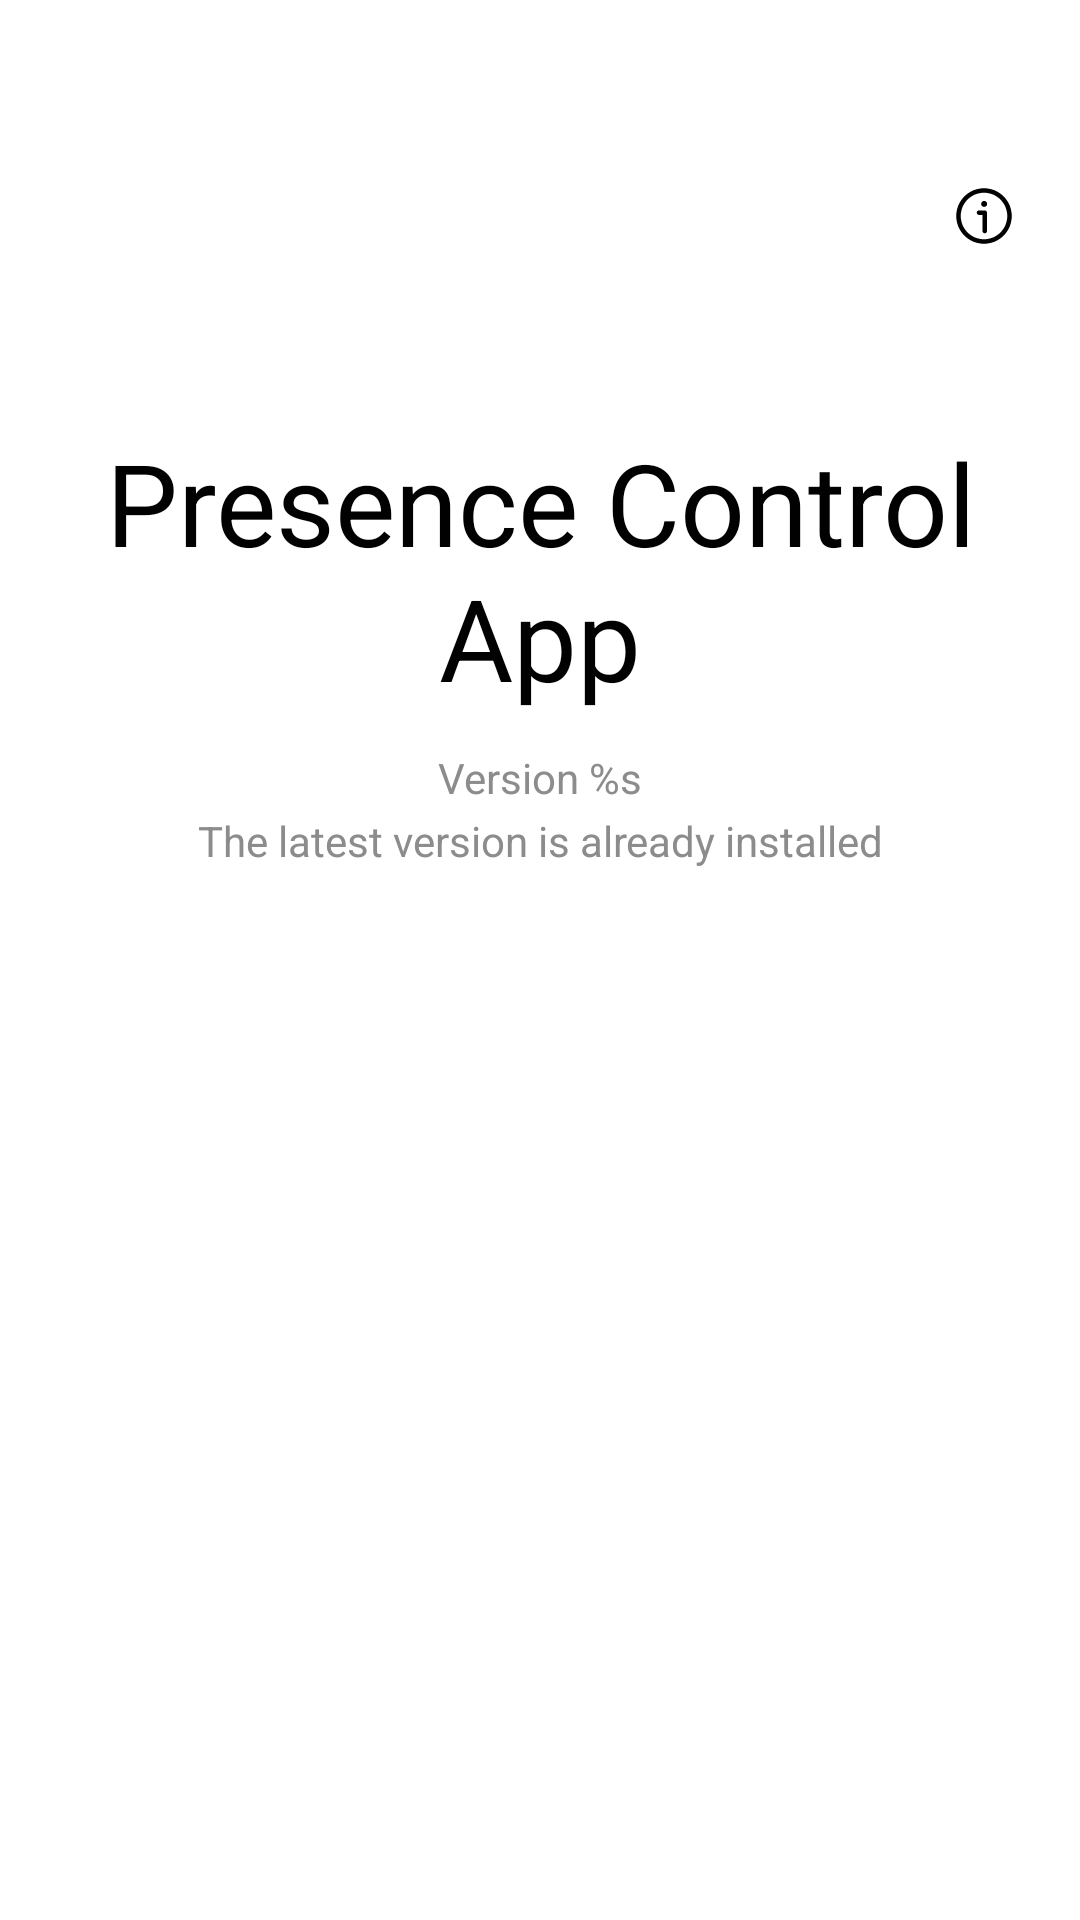

Screen size 1080px x 1920px. Icon name, then its center in pixels as [x,y]:
info: [984,216]
